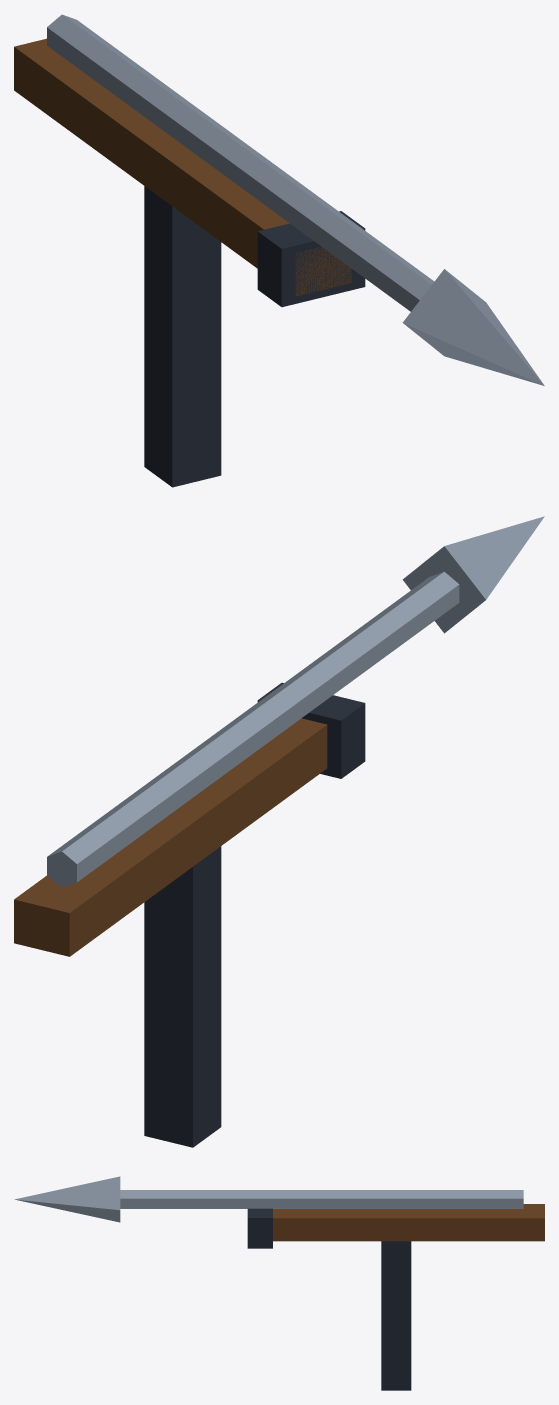
File: HarpoonBarrel.obj
3 views of the same model, one above another, from view 1: azimuth 30°, elevation 25°; view 2: azimuth 150°, elevation 25°; view 3: azimuth 270°, elevation 25° (orthographic). The views are drawn at different scales.
Visible parts, largest first — view 1: HarpoonBarrel; view 2: HarpoonBarrel; view 3: HarpoonBarrel.
Boxes of the visible parts, x1,y1,x2,y2 form: HarpoonBarrel: (14, 14, 544, 487); HarpoonBarrel: (14, 516, 544, 1147); HarpoonBarrel: (14, 1176, 544, 1390).
Size of the model in its own units: 0.12 by 0.54 by 1.25.
